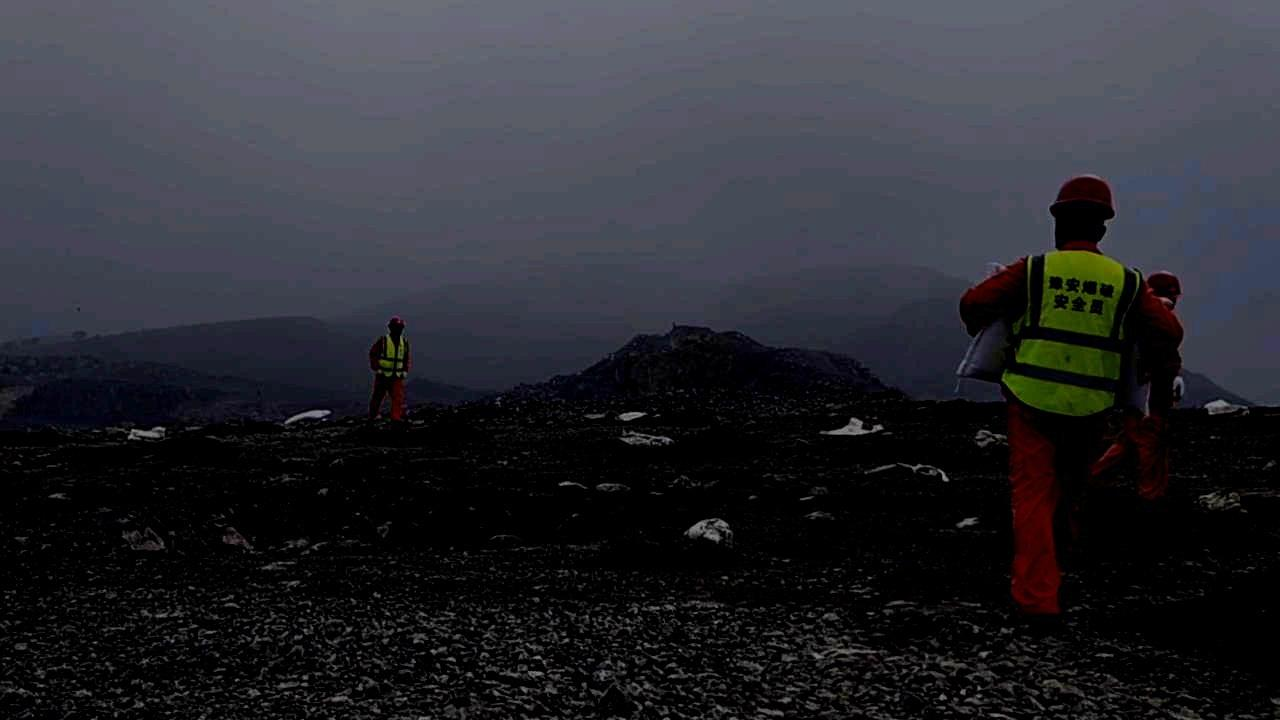helmet: (1049, 173, 1116, 250), (1146, 269, 1184, 310), (387, 315, 405, 337)
